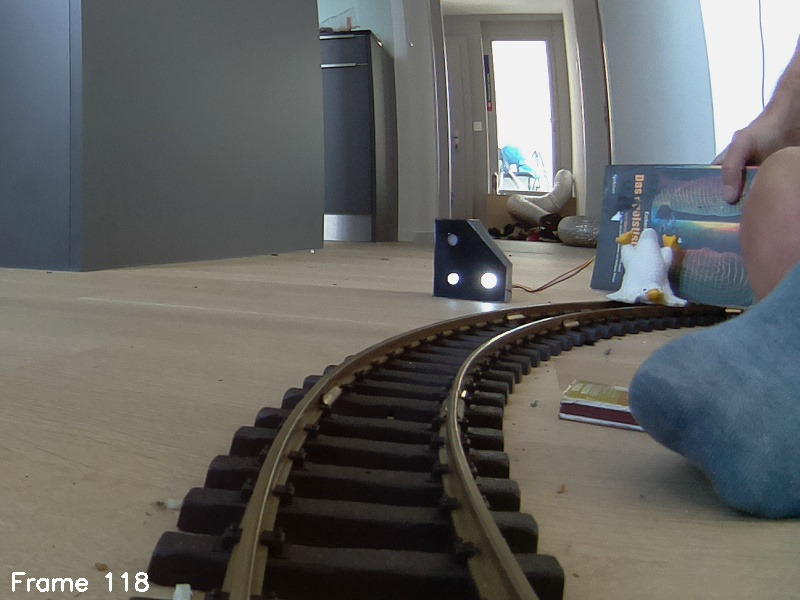Ente: (604, 225, 690, 309)
Halt: (434, 217, 512, 302)
